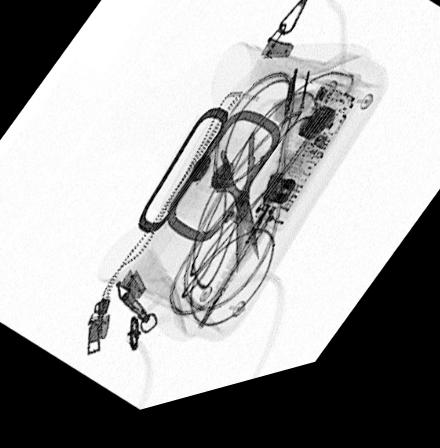Scissors: (190, 110, 295, 288)
